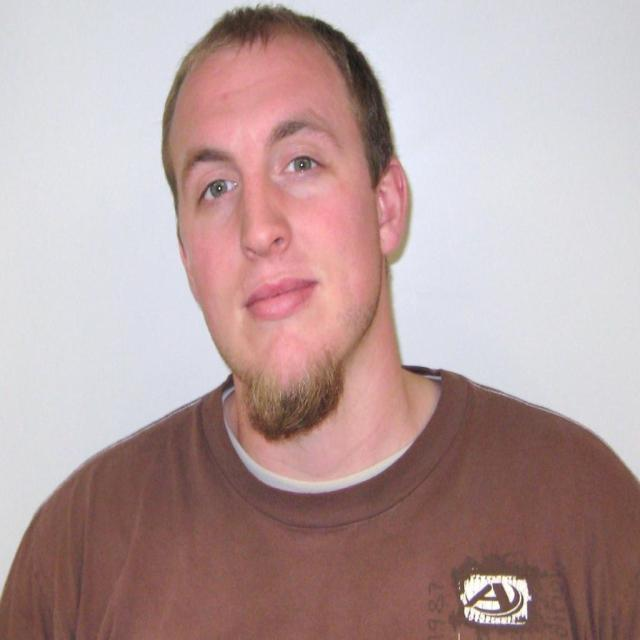Face: (152, 12, 411, 431)
